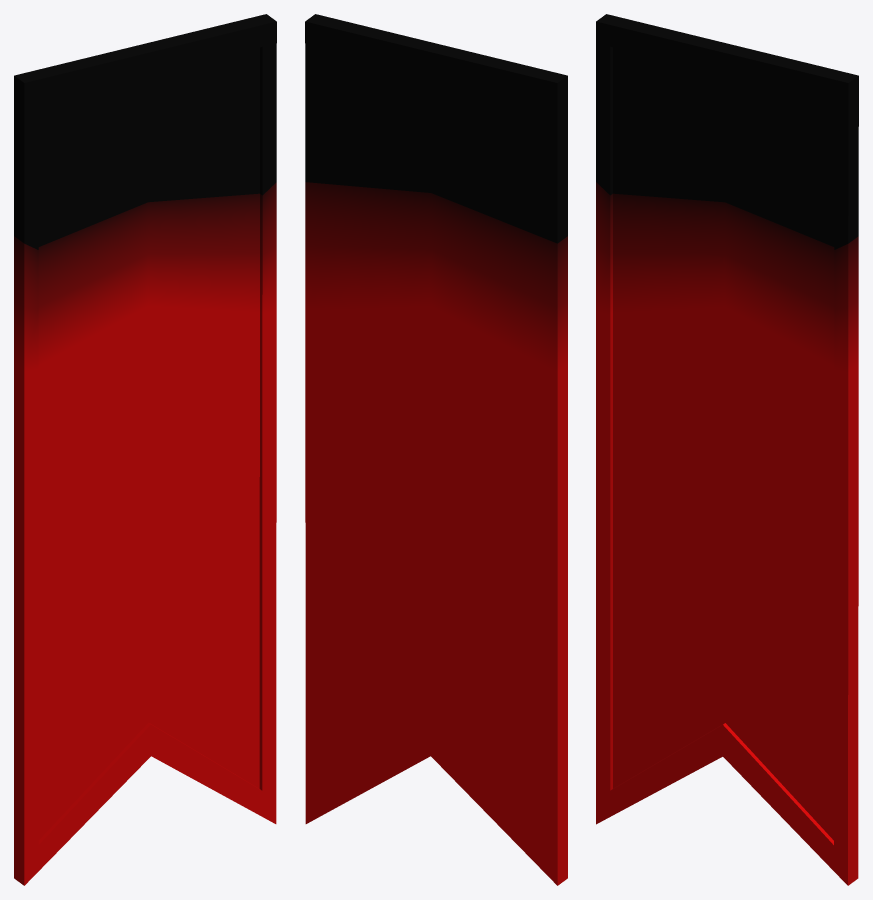
The model's file is Bandera.fbx.
3 renders of one model, left to right at view 1: azimuth 30°, elevation 25°; view 2: azimuth 150°, elevation 25°; view 3: azimuth 330°, elevation 25°, orthographic.
Parts seen in each view (by area): view 1: Bandera1; view 2: Bandera1; view 3: Bandera1.
Part boxes in pixels (bbox=[...]): Bandera1: bbox=[14, 14, 276, 885]; Bandera1: bbox=[305, 14, 567, 885]; Bandera1: bbox=[596, 14, 858, 885].
Size of the model in its own units: 1.26 by 3.84 by 0.0891.
